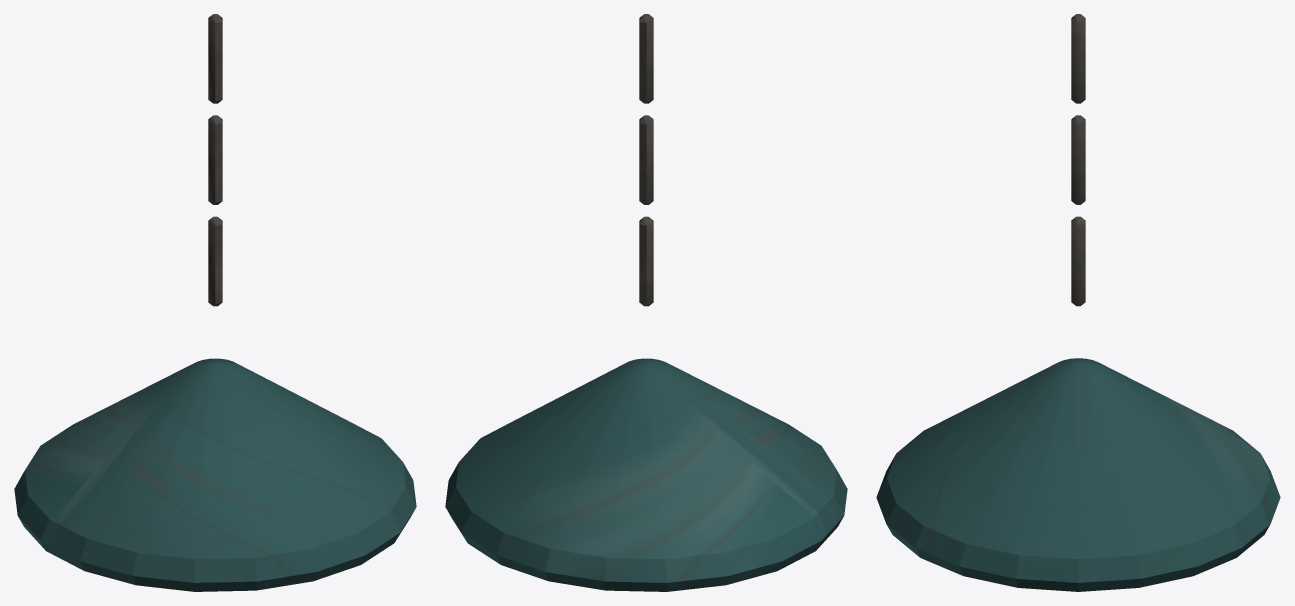
Rendered from WK_LIGHT_LAMP_PENDANT_A_01.glb.
3 renders of one model, left to right at view 1: azimuth 30°, elevation 25°; view 2: azimuth 150°, elevation 25°; view 3: azimuth 270°, elevation 25°, orthographic.
Visible parts, largest first — view 1: WK_LIGHT_LAMP_PENDANT_A_01; view 2: WK_LIGHT_LAMP_PENDANT_A_01; view 3: WK_LIGHT_LAMP_PENDANT_A_01.
Boxes of the visible parts, x1,y1,x2,y2 form: WK_LIGHT_LAMP_PENDANT_A_01: (14,14,416,591); WK_LIGHT_LAMP_PENDANT_A_01: (445,14,847,591); WK_LIGHT_LAMP_PENDANT_A_01: (876,14,1280,591).
Size of the model in its own units: 0.5066 by 0.74 by 0.5066.
Materials: 3 (2 with a texture image).
